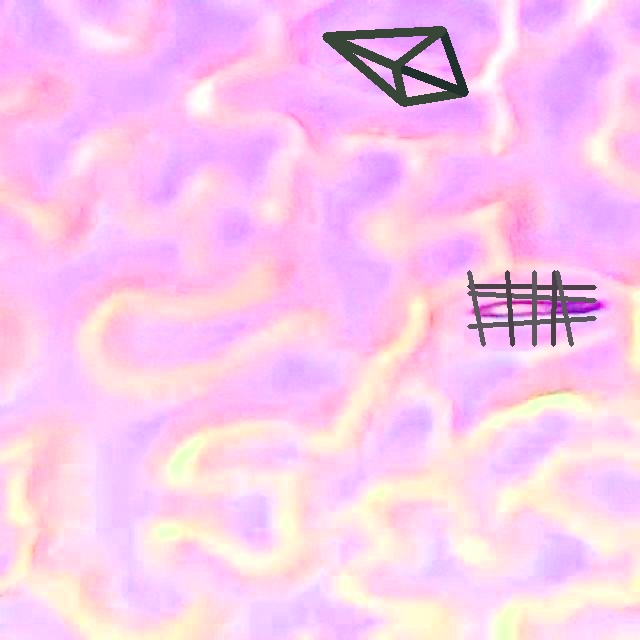close: (322, 26, 468, 105)
open: (467, 270, 596, 346)
